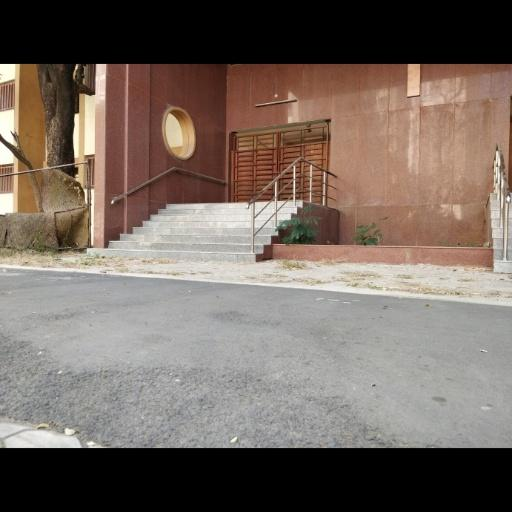stairs: (87, 203, 278, 261), (488, 193, 511, 272)
